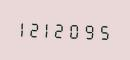five: (95, 21, 107, 41)
nine: (82, 20, 94, 41)
one: (17, 18, 29, 38), (43, 19, 55, 39)
two: (30, 18, 42, 39), (56, 19, 68, 40)
zero: (69, 20, 81, 40)
